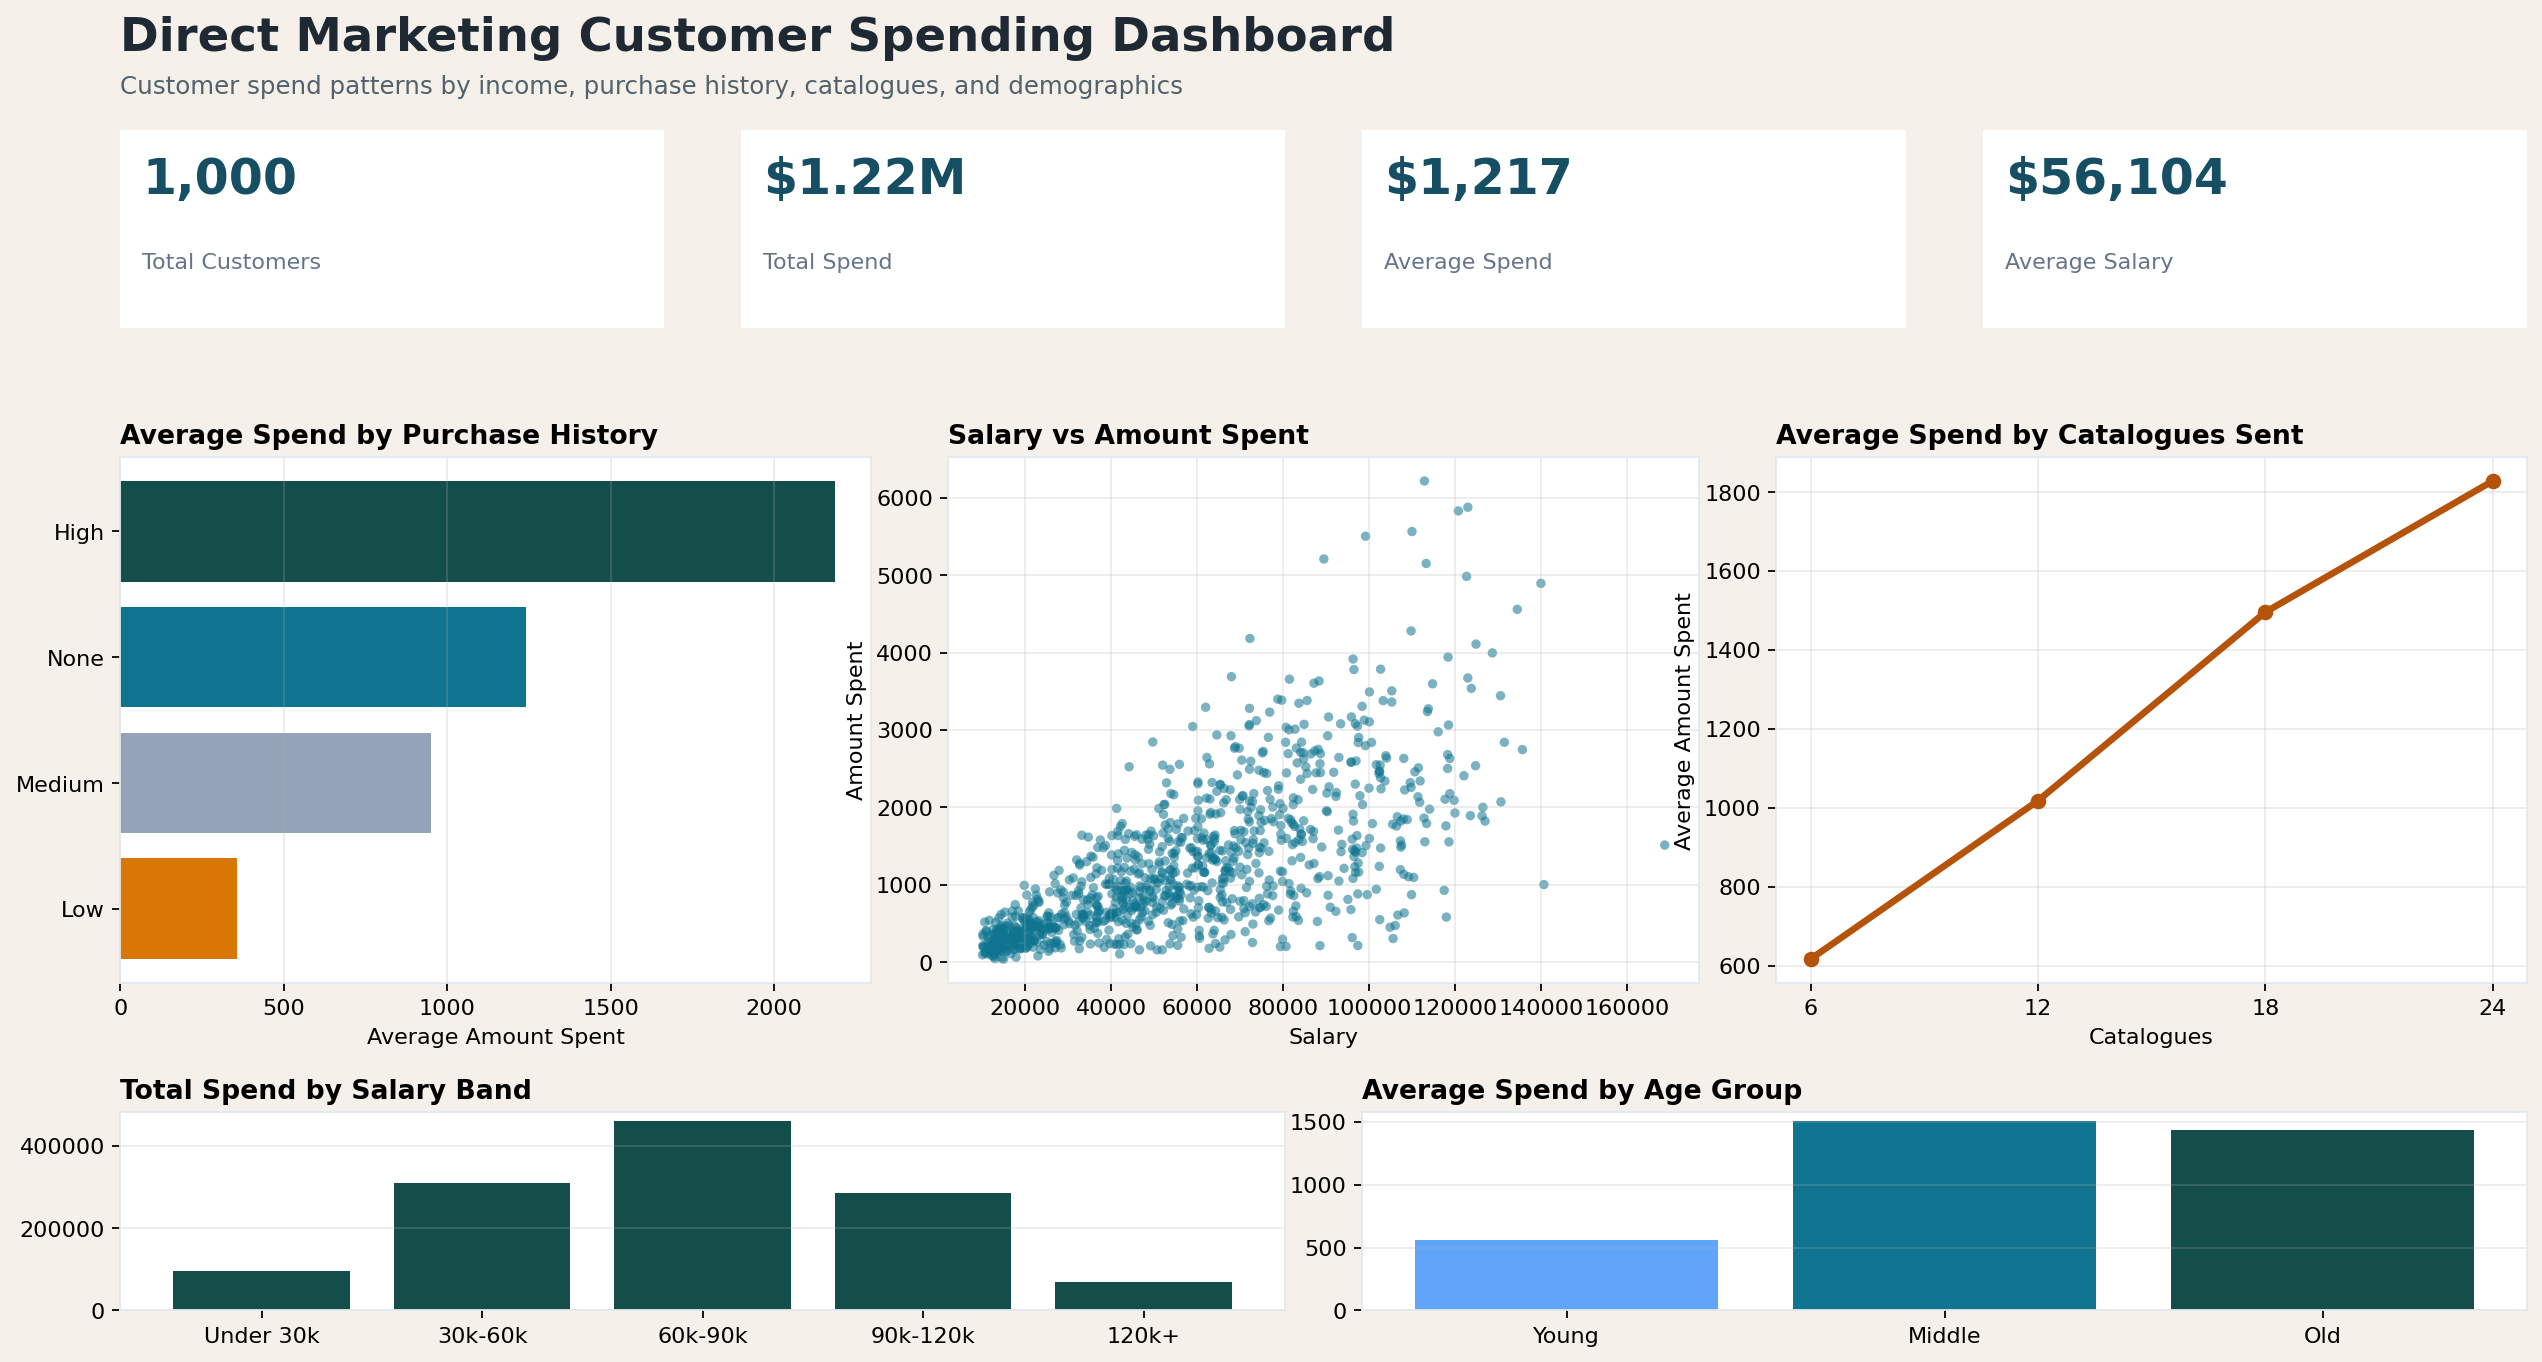

The page's visual inventory and layout, read from the dashboard file:
{"tool":"powerbi","page":{"name":"Customer Spending Overview","canvas":[1280,720],"ordinal":0},"visuals":[{"type":"card","fields":{"Values":["DirectMarketing.Total Customers"]},"box":[20,20,280,120]},{"type":"card","fields":{"Values":["DirectMarketing.Total Amount Spent"]},"box":[320,20,280,120]},{"type":"card","fields":{"Values":["DirectMarketing.Average Amount Spent"]},"box":[620,20,280,120]},{"type":"card","fields":{"Values":["DirectMarketing.Average Salary"]},"box":[920,20,280,120]},{"type":"clusteredBarChart","fields":{"Category":["DirectMarketing.History"],"Y":["DirectMarketing.Average Amount Spent"]},"box":[20,170,380,260]},{"type":"clusteredColumnChart","fields":{"Category":["DirectMarketing.SalaryBand"],"Y":["DirectMarketing.Total Amount Spent"]},"box":[430,170,380,260]},{"type":"lineChart","fields":{"Category":["DirectMarketing.Catalogs"],"Y":["DirectMarketing.Average Amount Spent"]},"box":[840,170,380,260]},{"type":"clusteredColumnChart","fields":{"Category":["DirectMarketing.Age"],"Y":["DirectMarketing.Average Amount Spent"]},"box":[20,460,380,220]},{"type":"matrix","fields":{"Values":["DirectMarketing.History","DirectMarketing.Catalogs","DirectMarketing.Average Amount Spent"]},"box":[430,460,380,220]},{"type":"slicer","fields":{"Values":["DirectMarketing.History"]},"box":[840,460,180,220]},{"type":"slicer","fields":{"Values":["DirectMarketing.Location"]},"box":[1040,460,180,220]}]}

Visuals, with their boxes on the page's 1280x720 design canvas (x1, y1, x2, y2). These are canvas units, not pixel positions in the 2542x1362 screenshot, which may show the page scaled, cropped or inside an application window:
card - DirectMarketing.Total Customers: (20, 20, 300, 140)
card - DirectMarketing.Total Amount Spent: (320, 20, 600, 140)
card - DirectMarketing.Average Amount Spent: (620, 20, 900, 140)
card - DirectMarketing.Average Salary: (920, 20, 1200, 140)
clusteredBarChart - DirectMarketing.History x DirectMarketing.Average Amount Spent: (20, 170, 400, 430)
clusteredColumnChart - DirectMarketing.SalaryBand x DirectMarketing.Total Amount Spent: (430, 170, 810, 430)
lineChart - DirectMarketing.Catalogs x DirectMarketing.Average Amount Spent: (840, 170, 1220, 430)
clusteredColumnChart - DirectMarketing.Age x DirectMarketing.Average Amount Spent: (20, 460, 400, 680)
matrix - DirectMarketing.History x DirectMarketing.Catalogs: (430, 460, 810, 680)
slicer - DirectMarketing.History: (840, 460, 1020, 680)
slicer - DirectMarketing.Location: (1040, 460, 1220, 680)
